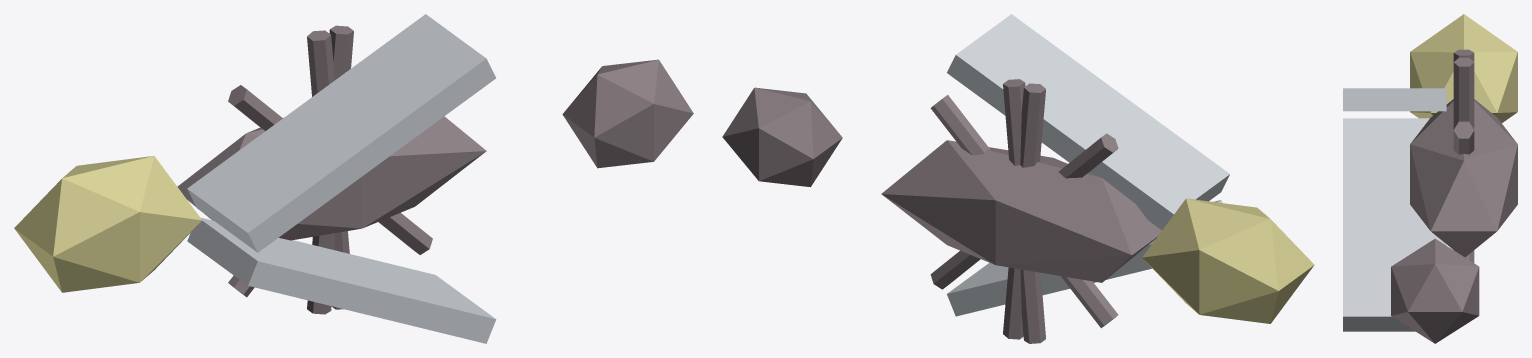
The model's file is firefly.glb.
3 renders of one model, left to right at view 1: azimuth 30°, elevation 25°; view 2: azimuth 150°, elevation 25°; view 3: azimuth 270°, elevation 25°, orthographic. The views are drawn at different scales.
Parts seen in each view (by area): view 1: world; view 2: world; view 3: world.
Boxes of the visible parts, left/top/right/bottom form: world: left=14, top=14, right=693, bottom=343; world: left=722, top=14, right=1314, bottom=343; world: left=1343, top=14, right=1517, bottom=343.
Bounding box in the file's own units: 1.07 × 0.4664 × 0.3036.
